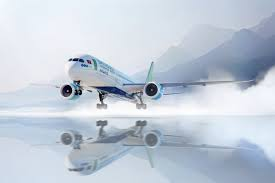maybay_dansu: (38, 52, 255, 111)
